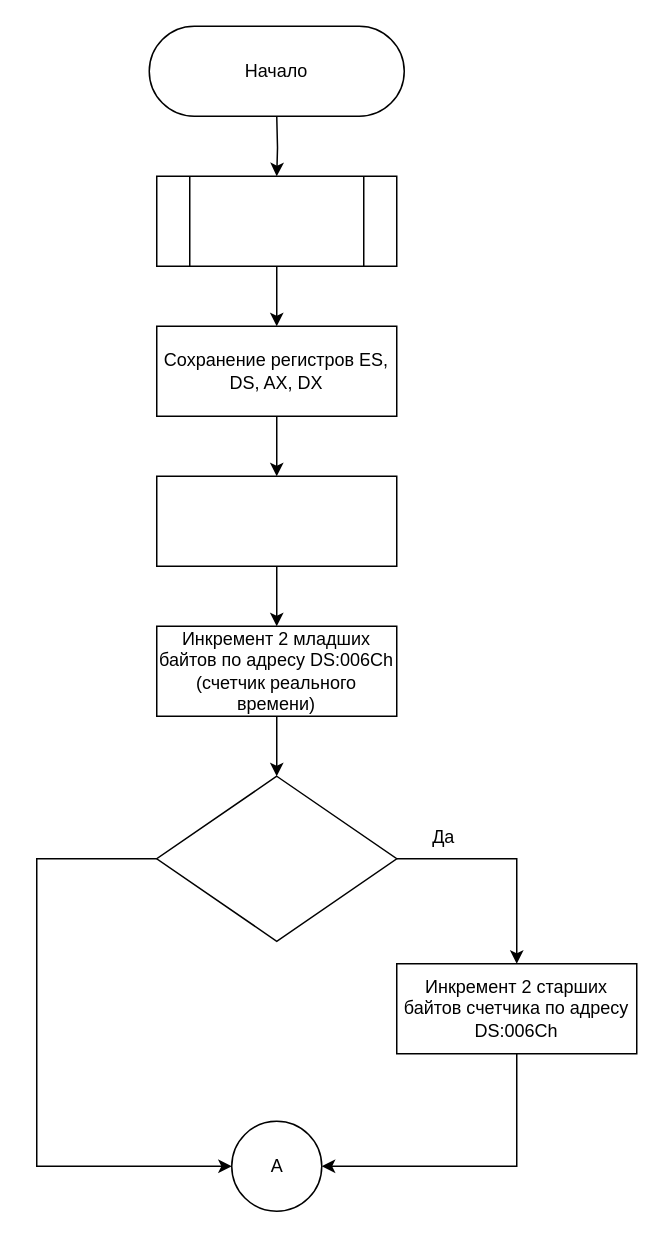
The diagram is 663 pixels wide and 1238 high, and some of its shapes have lost their labels. Each missing label, with the box of its shape:
2 младших байта счетчика по адресу DS:006Ch == 0?: (155, 775, 397, 941)
DS := 40h ES := 00h: (155, 475, 397, 566)
Вызов процедуры SUB_6: (155, 175, 397, 266)
